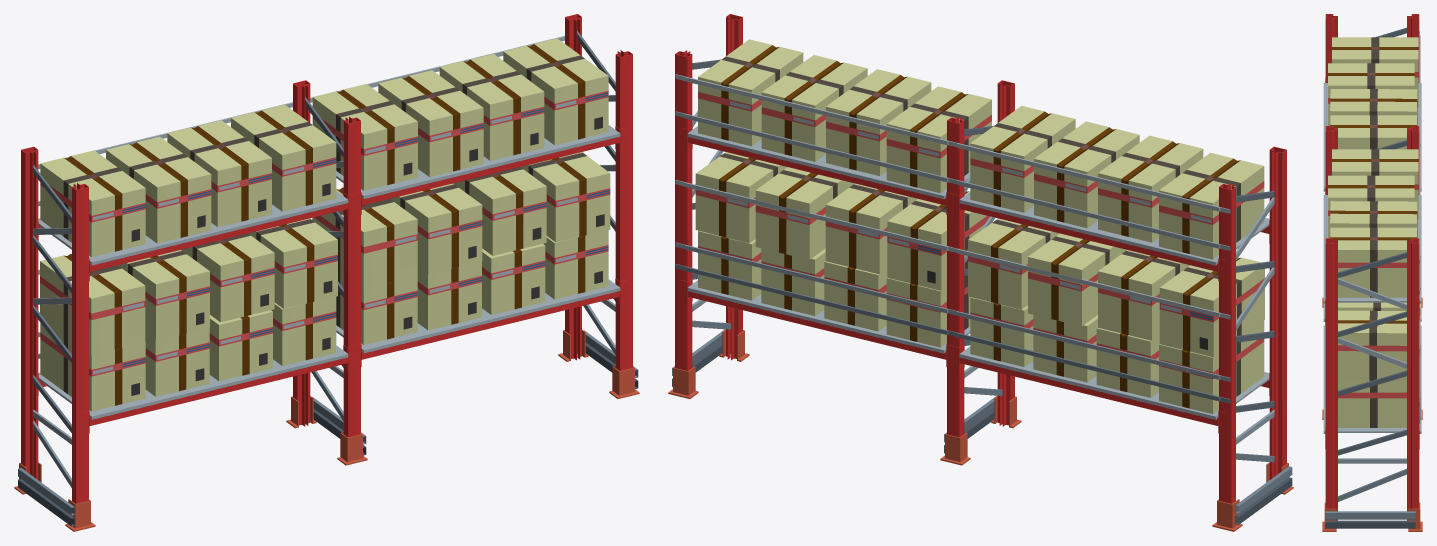
The model's file is SM_ShelfBoxesx2_Red_B.fbx.
3 renders of one model, left to right at view 1: azimuth 30°, elevation 25°; view 2: azimuth 150°, elevation 25°; view 3: azimuth 270°, elevation 25°, orthographic. The views are drawn at different scales.
Parts seen in each view (by area): view 1: SM_ShelfBoxesx2_Red_B; view 2: SM_ShelfBoxesx2_Red_B; view 3: SM_ShelfBoxesx2_Red_B.
Part boxes in pixels (<box>): SM_ShelfBoxesx2_Red_B: <box>14,14,639,531</box>; SM_ShelfBoxesx2_Red_B: <box>668,14,1293,531</box>; SM_ShelfBoxesx2_Red_B: <box>1322,14,1422,531</box>.
Bounding box in the file's own units: 646 × 370 × 118.
